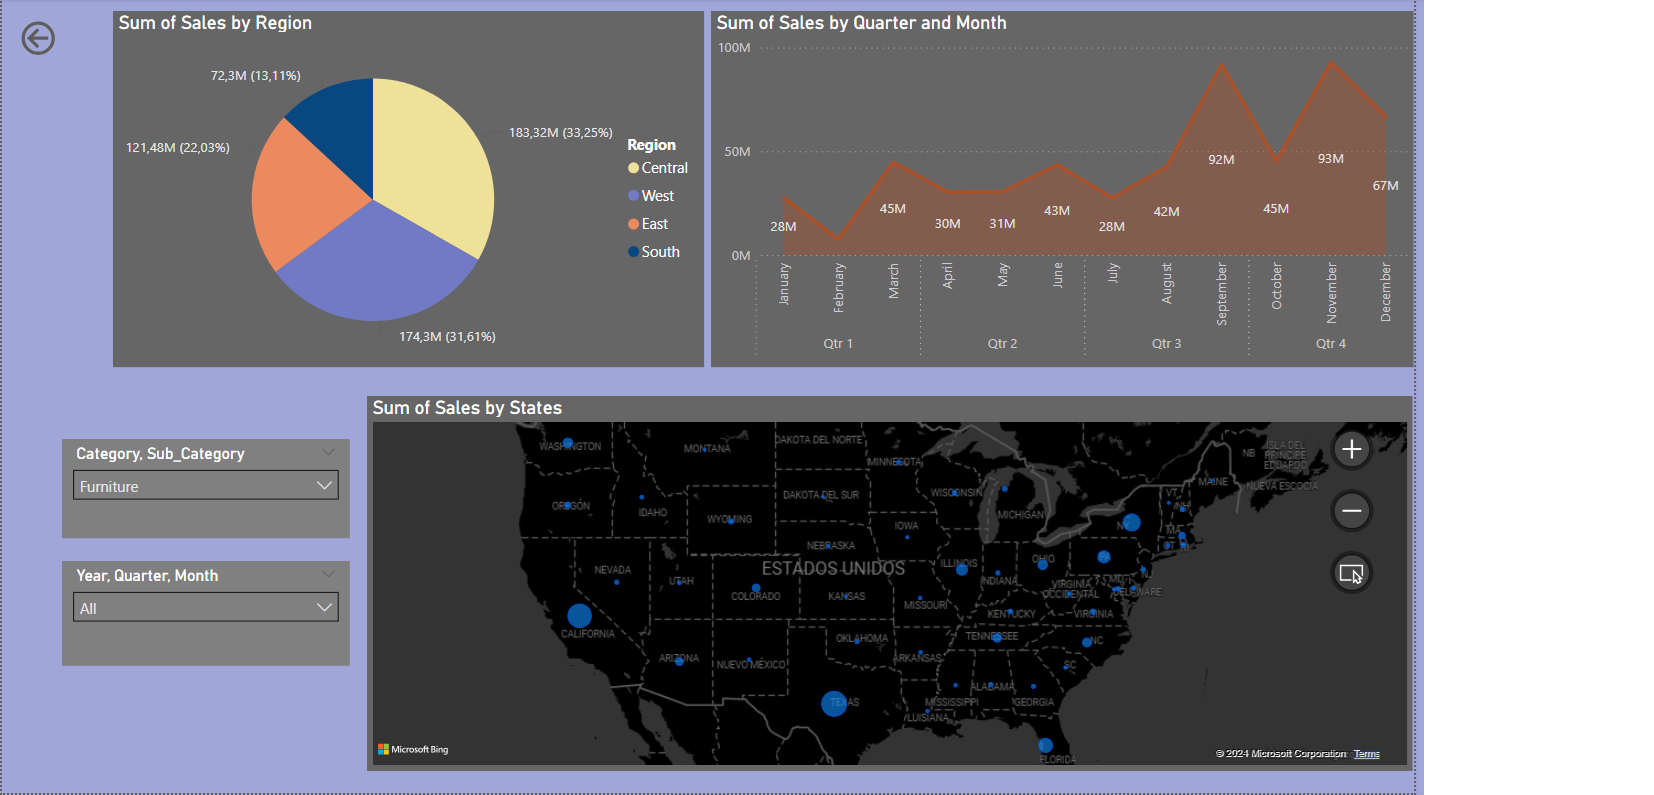

What the dashboard file says about the page in this screenshot:
{"tool":"powerbi","page":{"name":"Sales","canvas":[1280,720],"ordinal":1},"visuals":[{"type":"slicer","fields":{"Values":["Superstore (2).Order_Date.Variation.Date Hierarchy.Year","Superstore (2).Order_Date.Variation.Date Hierarchy.Quarter","Superstore (2).Order_Date.Variation.Date Hierarchy.Month"]},"box":[54.6,509.6,260.6,94.9],"z":0},{"type":"slicer","fields":{"Values":["Superstore (2).Category","Superstore (2).Sub_Category"]},"box":[54.6,399.4,260.6,89.6],"z":1000},{"type":"pieChart","fields":{"Y":["Sum(Superstore (2).Sales)"],"Category":["Superstore (2).Region"]},"box":[100.3,10.7,536.4,323.3],"z":2000},{"type":"stackedAreaChart","fields":{"Category":["Superstore (2).Order_Date.Variation.Date Hierarchy.Quarter","Superstore (2).Order_Date.Variation.Date Hierarchy.Month"],"Y":["Sum(Superstore (2).Sales)"]},"box":[643,10.7,636.7,323.3],"z":3000},{"type":"map","fields":{"Category":["Superstore (2).States"],"Size":["Sum(Superstore (2).Sales)"]},"box":[331.3,360,948.4,340.3],"z":4000},{"type":"actionButton","box":[12.5,15.2,100.3,40.3],"z":5000}]}

Visuals, with their boxes in screenshot pixels (x1, y1, x2, y2):
slicer - Superstore (2).Order_Date.Variation.Date Hierarchy.Year x Superstore (2).Order_Date.Variation.Date Hierarchy.Quarter: locate(73, 556, 357, 660)
slicer - Superstore (2).Category x Superstore (2).Sub_Category: locate(73, 436, 357, 534)
pieChart - Sum(Superstore (2).Sales) x Superstore (2).Region: locate(122, 12, 708, 365)
stackedAreaChart - Superstore (2).Order_Date.Variation.Date Hierarchy.Quarter x Superstore (2).Order_Date.Variation.Date Hierarchy.Month: locate(715, 12, 1410, 365)
map - Superstore (2).States x Sum(Superstore (2).Sales): locate(375, 393, 1410, 764)
actionButton: locate(27, 17, 136, 61)
